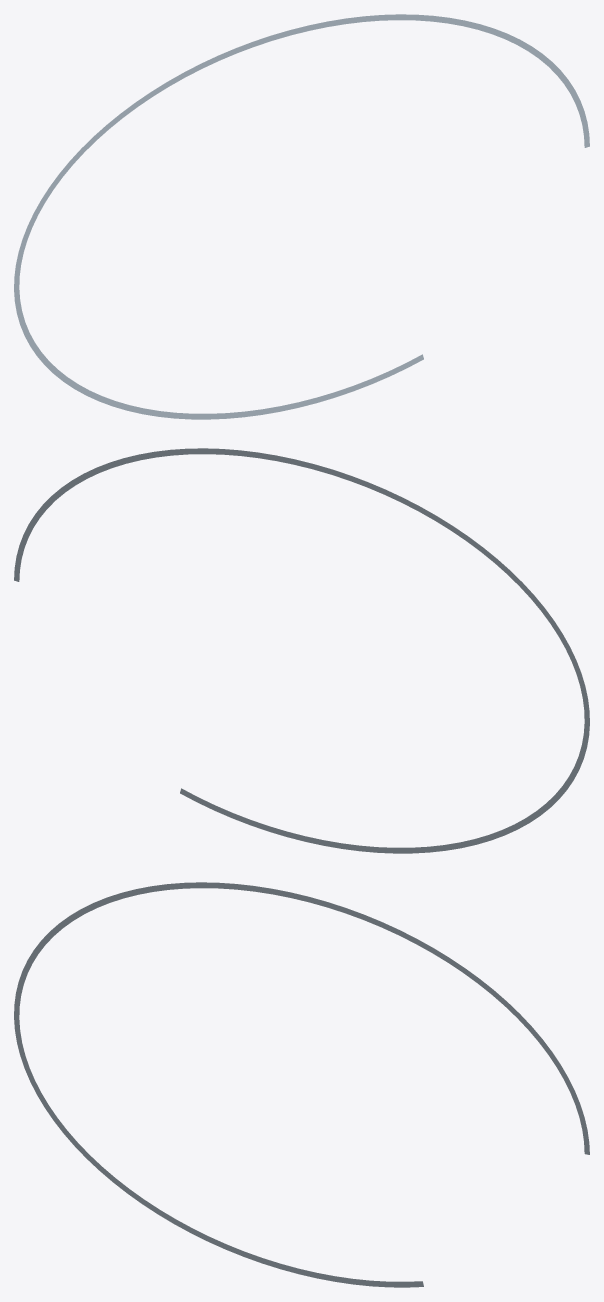
The model's file is 2083_PrimordialShower_Hydro_AncientCurvedGlyph_1.fbx.
3 views of the same model, one above another, from view 1: azimuth 30°, elevation 25°; view 2: azimuth 150°, elevation 25°; view 3: azimuth 330°, elevation 25° (orthographic).
Parts seen in each view (by area): view 1: PART_AncientCurvedGlyph_1; view 2: PART_AncientCurvedGlyph_1; view 3: PART_AncientCurvedGlyph_1.
Part boxes in pixels (<box>): PART_AncientCurvedGlyph_1: <box>14,14,589,419</box>; PART_AncientCurvedGlyph_1: <box>14,448,589,853</box>; PART_AncientCurvedGlyph_1: <box>14,882,589,1287</box>.
Bounding box in the file's own units: 747 × 471 × 7.67e-05.
